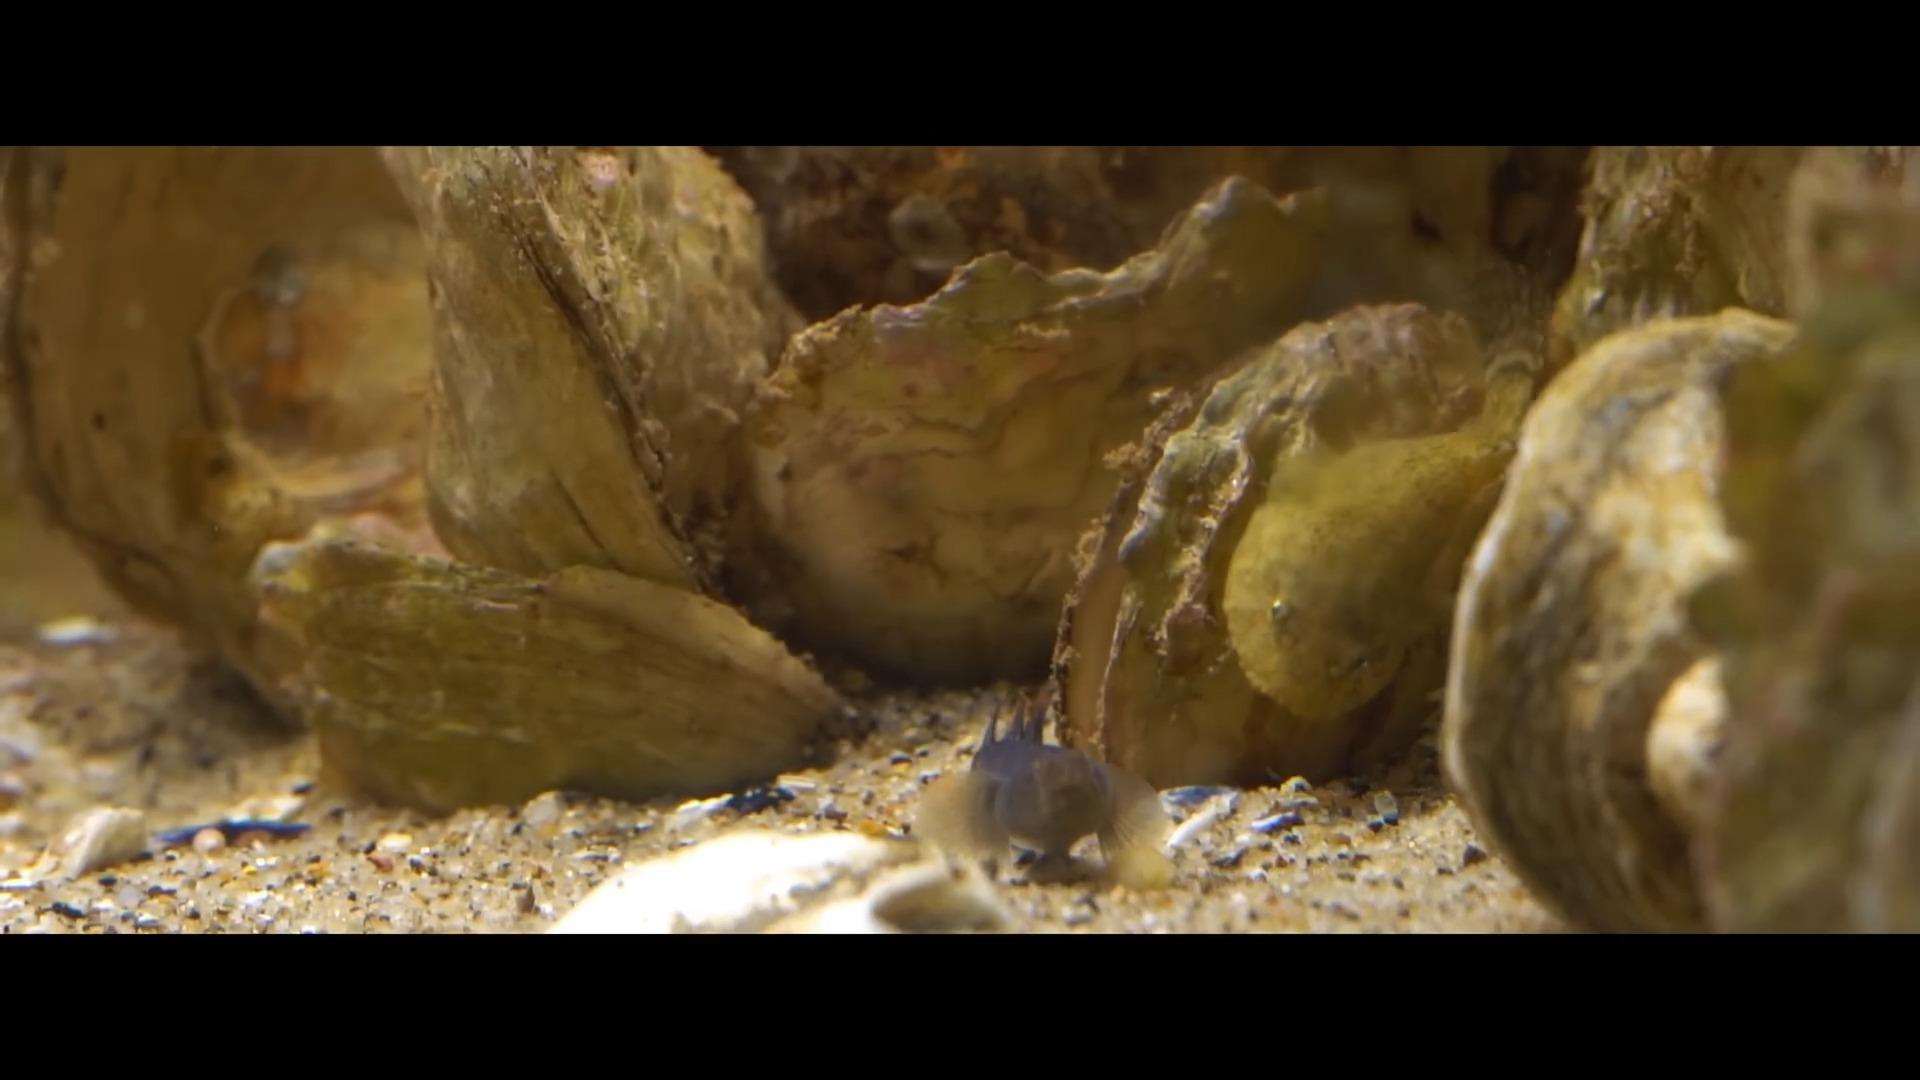Oyster: (7, 148, 458, 719), (1071, 289, 1523, 794), (1441, 309, 1793, 930), (381, 148, 803, 588), (260, 531, 848, 812), (1557, 140, 1894, 353)
